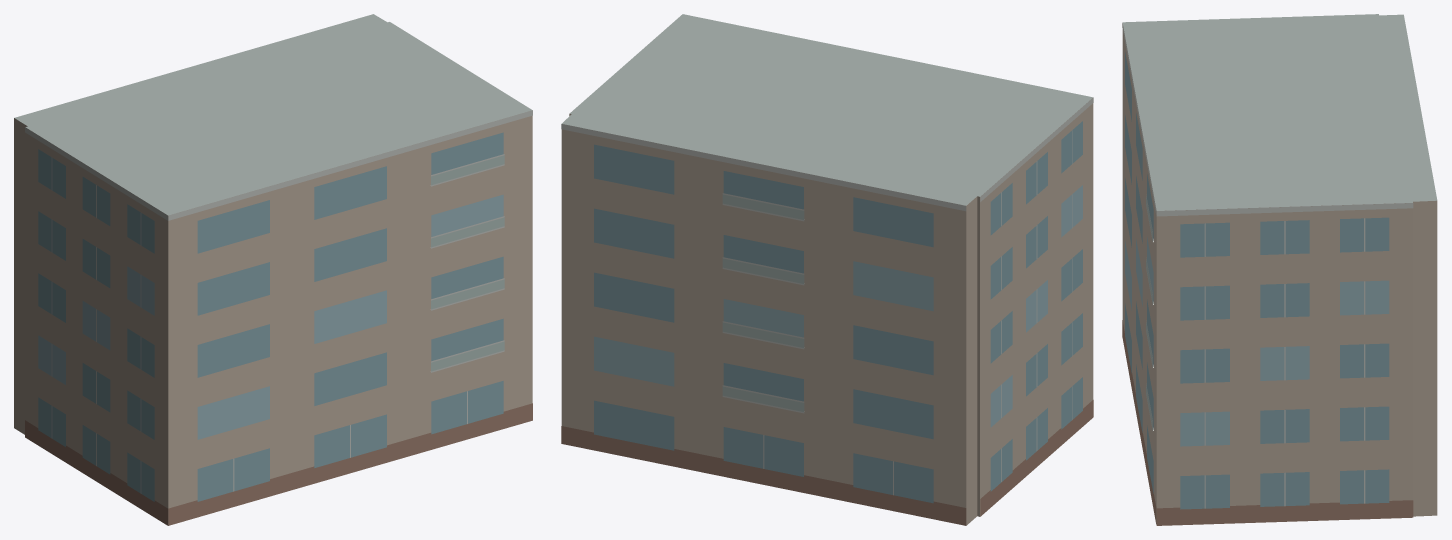
The model's file is survey-upis-32757040.glb.
The picture shows the model from 3 angles, left to right: view 1: azimuth 30°, elevation 25°; view 2: azimuth 150°, elevation 25°; view 3: azimuth 270°, elevation 25°; orthographic projection. The views are drawn at different scales.
Parts seen in each view (by area): view 1: survey-upis-32757040.tmp; view 2: survey-upis-32757040.tmp; view 3: survey-upis-32757040.tmp.
Part boxes in pixels (x1,y1,x2,y2): survey-upis-32757040.tmp: [14, 14, 532, 525]; survey-upis-32757040.tmp: [561, 14, 1093, 525]; survey-upis-32757040.tmp: [1122, 14, 1437, 525].
Bounding box in the file's own units: 18.93 × 14.1 × 12.79.
